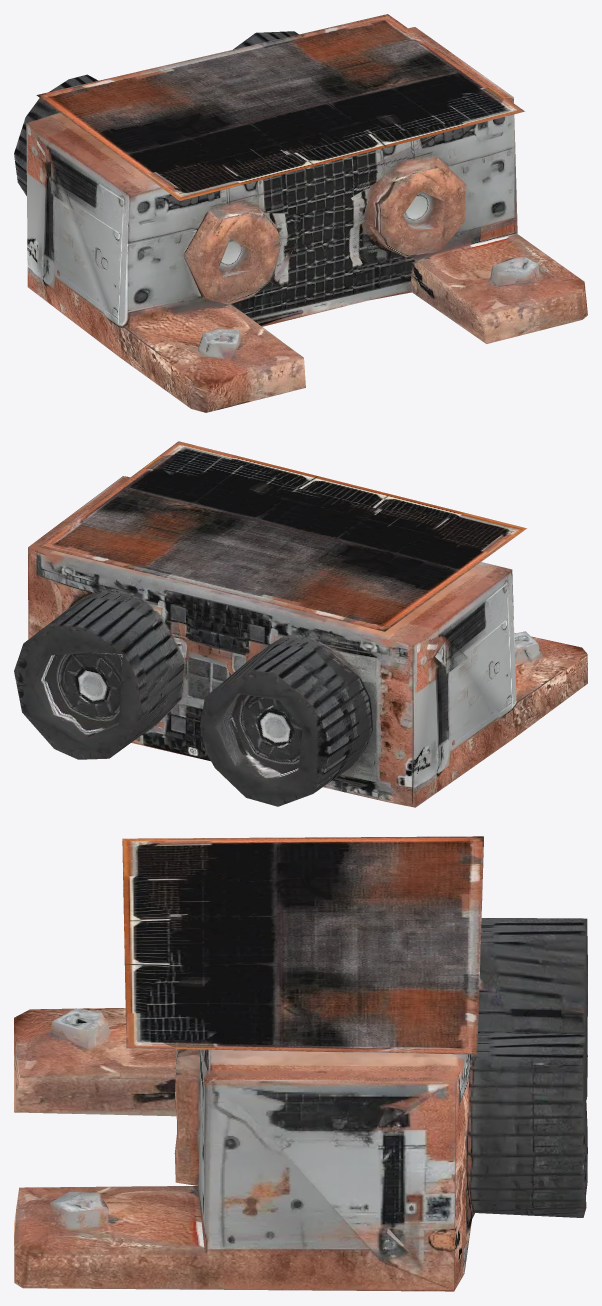
Rendered from RoverHead.glb.
3 views of the same model, one above another, from view 1: azimuth 30°, elevation 25°; view 2: azimuth 150°, elevation 25°; view 3: azimuth 270°, elevation 25° (orthographic). The views are drawn at different scales.
Parts seen in each view (by area): view 1: Mesh_0; view 2: Mesh_0; view 3: Mesh_0.
Boxes of the visible parts, x1=… form: Mesh_0: x1=14, y1=14, x2=587, y2=412; Mesh_0: x1=14, y1=441, x2=587, y2=807; Mesh_0: x1=14, y1=836, x2=587, y2=1291.
Size of the model in its own units: 1.9 by 0.8416 by 1.89.
1 material, 1 textured.
